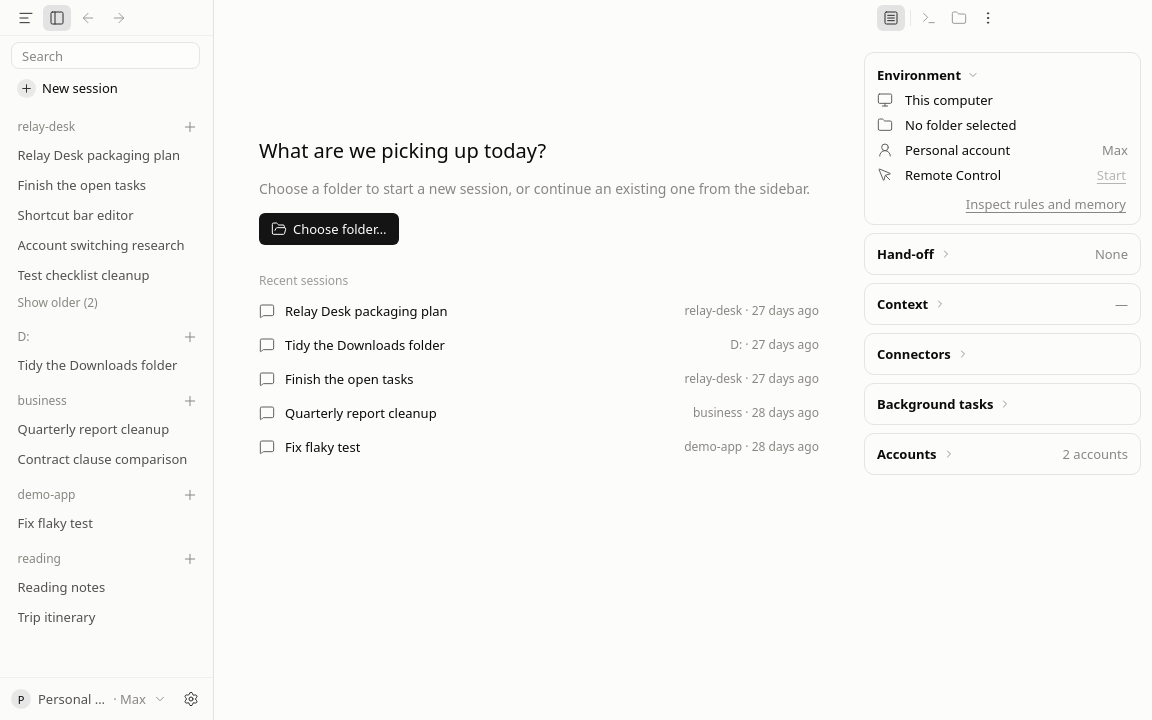
Scenario: app shell › opening a listed session loads its history read-only and resumes nothing (R4)
This screenshot has width=1152, height=720.
Click the button "Fix flaky test".
click(106, 523)  # box [7,509,206,537]
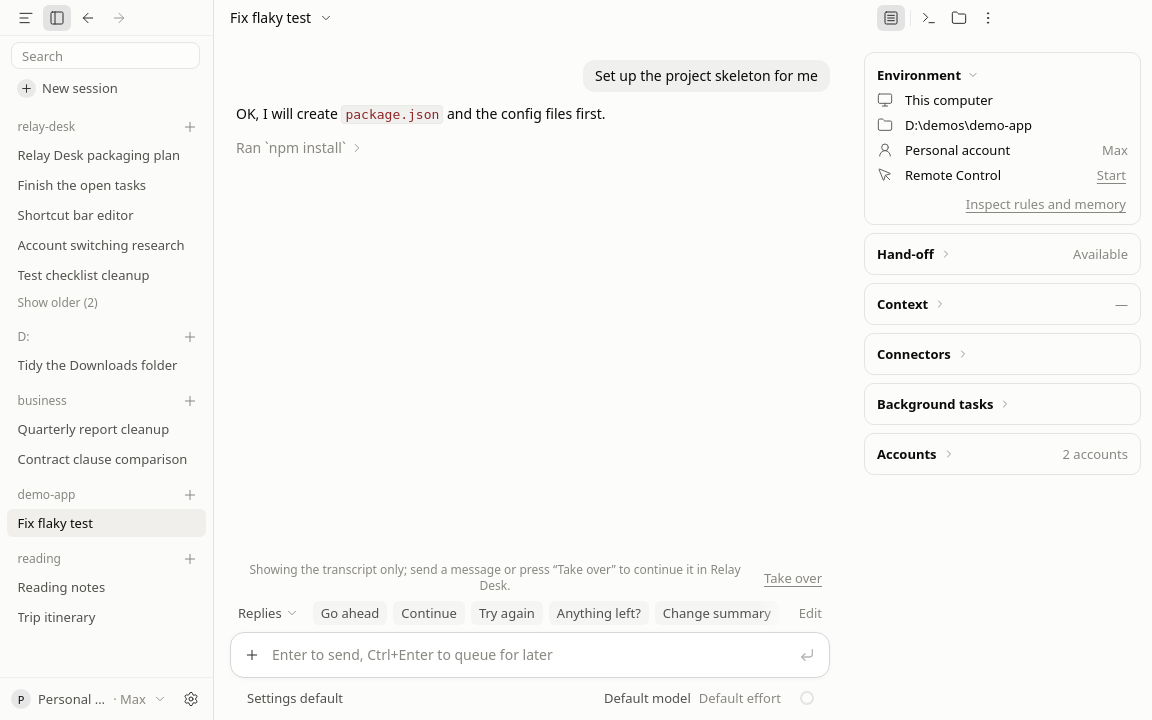
Result: the text "Ran `npm install`" is shown at [236,138,346,158]
Result: the element with test id "readonly-note" is shown at [230,562,830,594]
